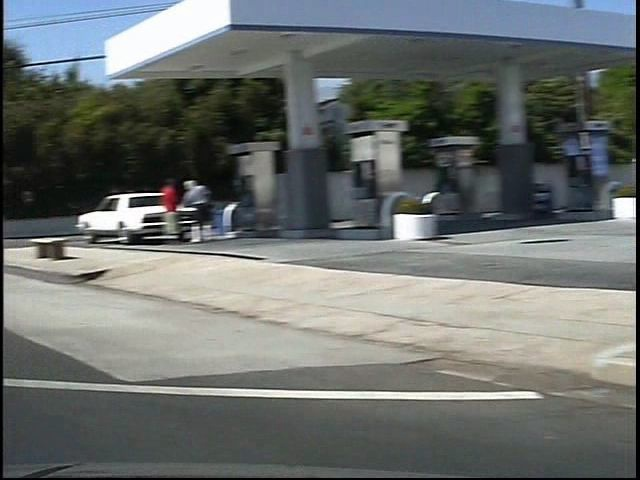person: (157, 173, 196, 244), (136, 173, 162, 245)
